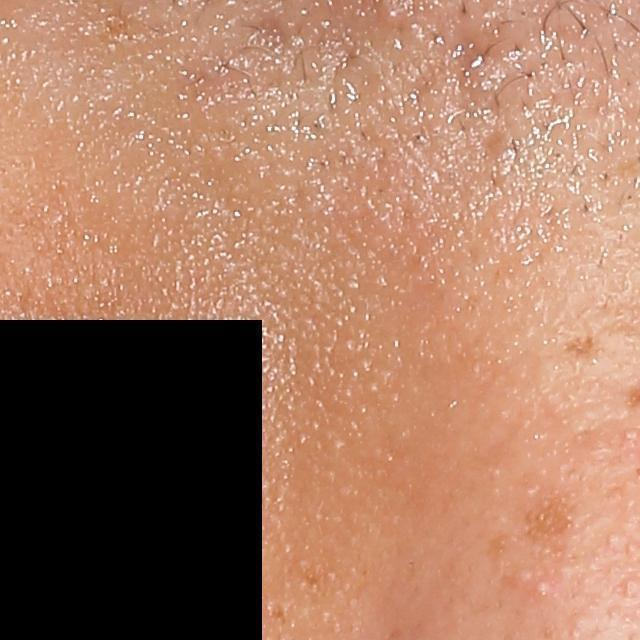comedo: (532, 581, 563, 598)
melasma: (524, 488, 579, 544)
